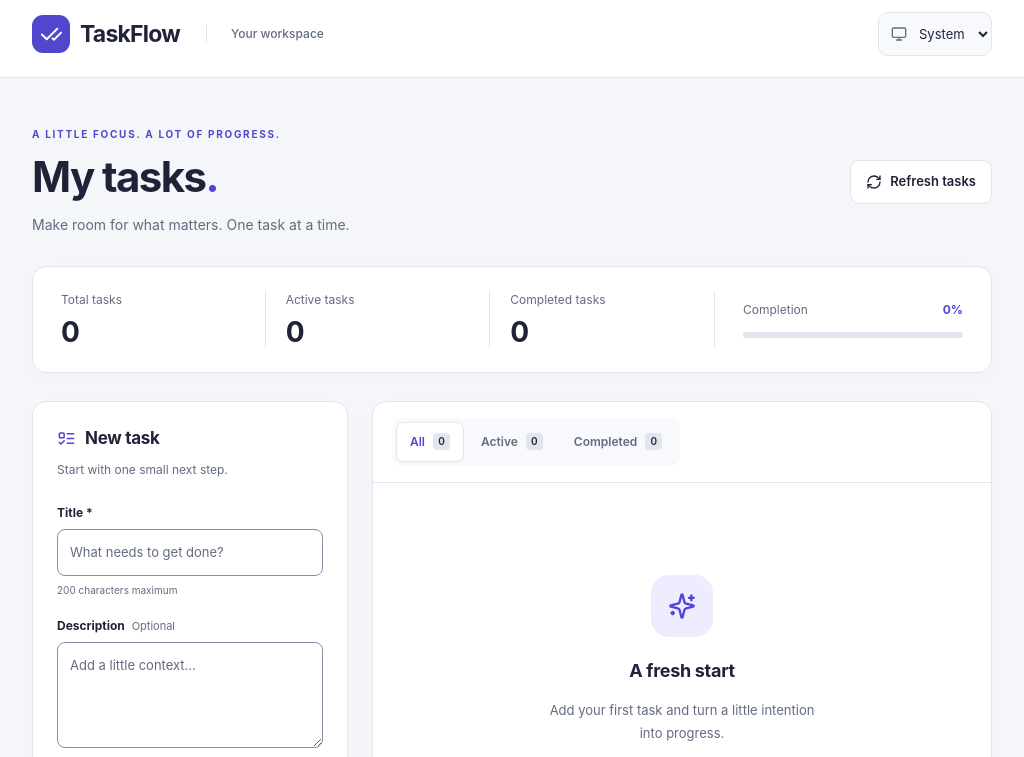
Test case: restores keyboard focus to the enabled title field after creation
The width and height of the screenshot is (1024, 757).
Type "Keyboard task" into the field labelled "Title *" at (190, 553), box [57,530,323,576]
(page scrolled)
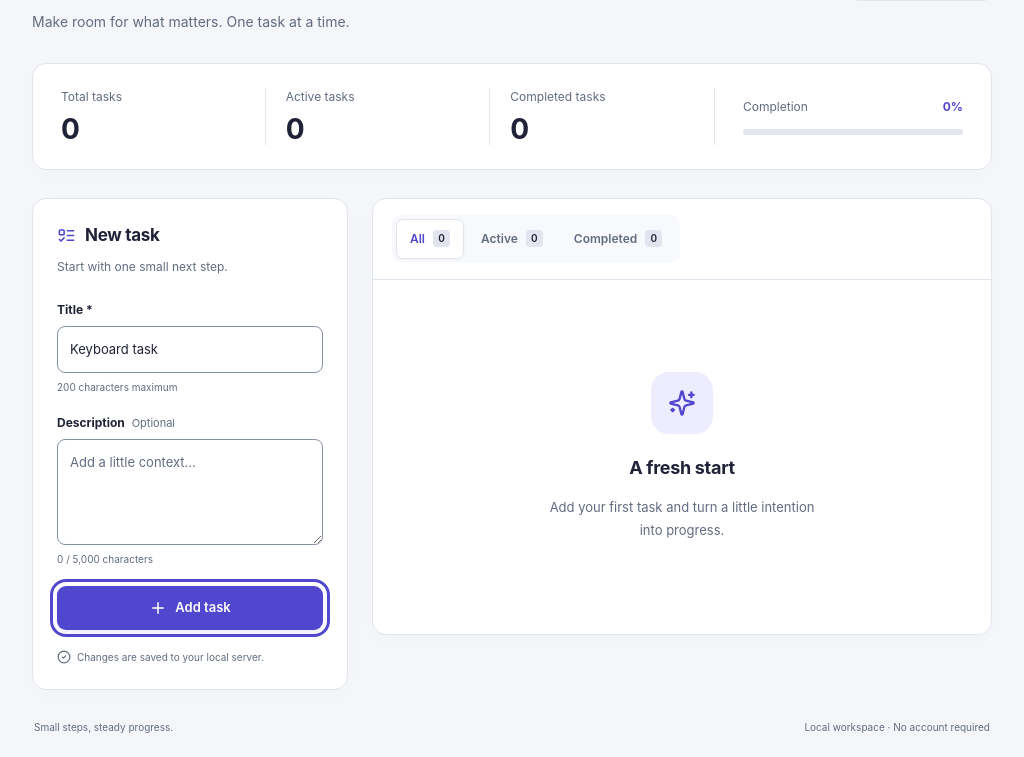
Submit the form named "Create task", box [57,302,323,630]
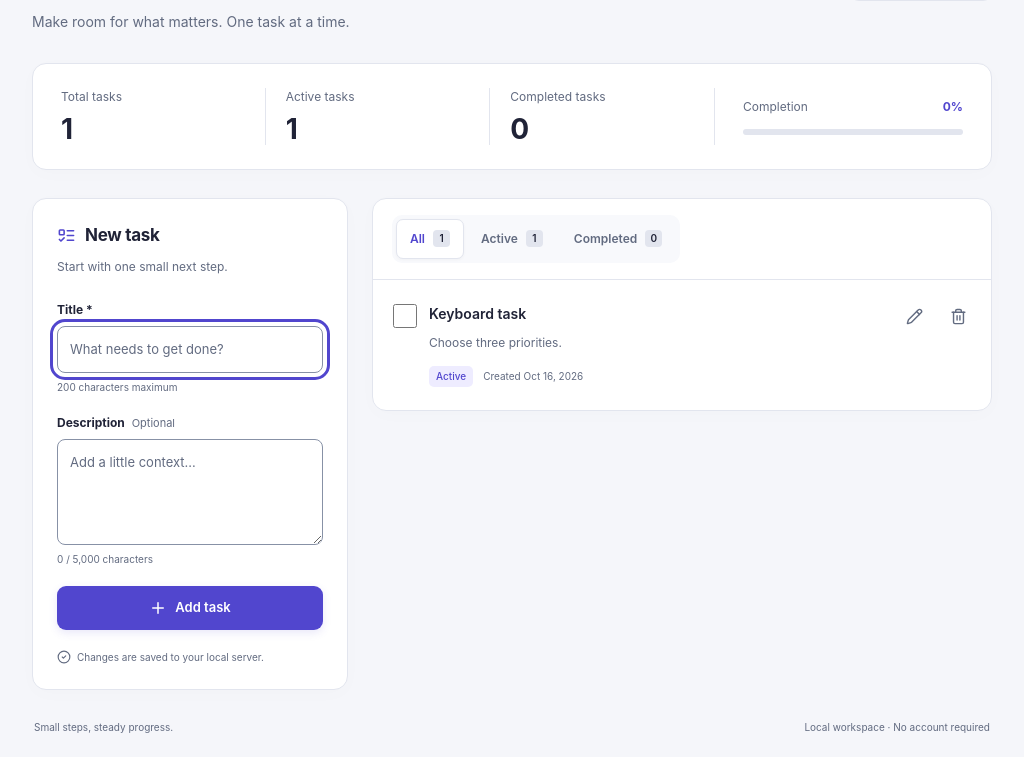
Expected: the heading "Keyboard task" is shown, [429,305,526,322]
